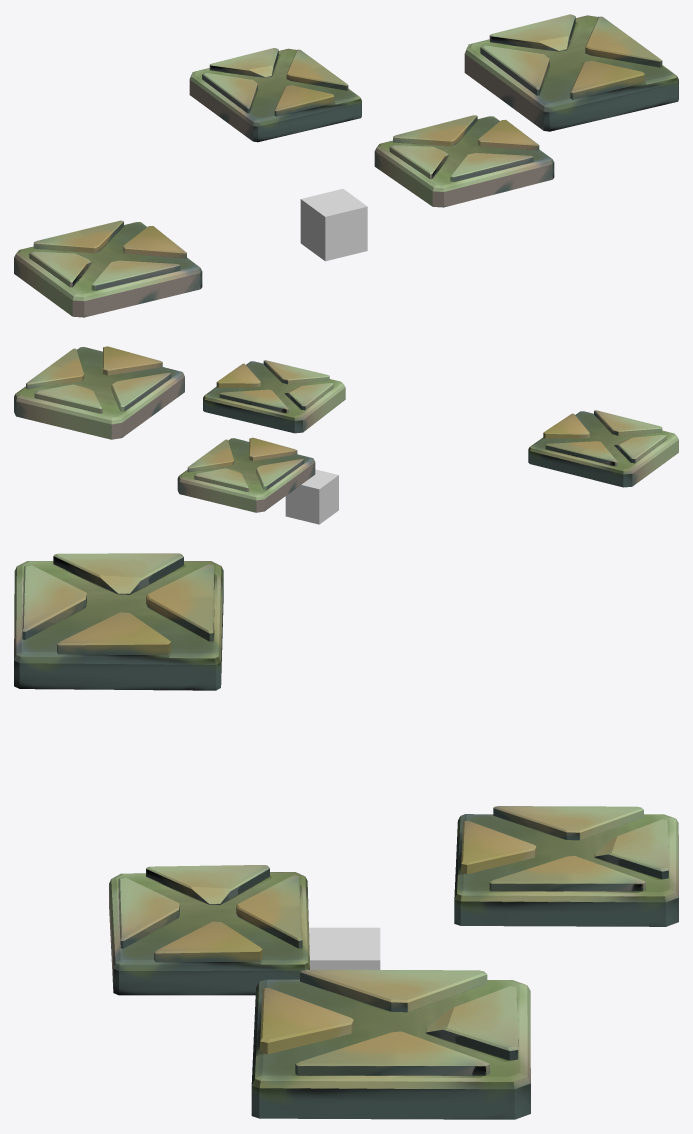
The model's file is trade-floor007.fbx.
3 renders of one model, top to bottom at view 1: azimuth 30°, elevation 25°; view 2: azimuth 150°, elevation 25°; view 3: azimuth 270°, elevation 25°, orthographic. The views are drawn at different scales.
Visible parts, largest first — view 1: Plane.022, Plane.024, Plane.018, Plane.017, trade-floor007; view 2: Plane.022, Plane.024, Plane.018, Plane.017, trade-floor007; view 3: Plane.022, Plane.024, Plane.017, Plane.018, trade-floor007.
Boxes of the visible parts, <box> form: Plane.022: <box>464,14,678,131</box>; Plane.024: <box>14,220,202,317</box>; Plane.018: <box>374,115,554,207</box>; Plane.017: <box>189,48,361,142</box>; trade-floor007: <box>300,188,367,261</box>; Plane.022: <box>14,346,184,439</box>; Plane.024: <box>528,410,678,487</box>; Plane.018: <box>203,360,345,433</box>; Plane.017: <box>177,437,315,512</box>; trade-floor007: <box>285,469,338,524</box>; Plane.022: <box>251,969,530,1119</box>; Plane.024: <box>14,553,223,690</box>; Plane.017: <box>454,806,678,926</box>; Plane.018: <box>109,865,309,995</box>; trade-floor007: <box>309,927,380,969</box>.
Bounding box in the file's own units: 1252 × 216 × 670.
